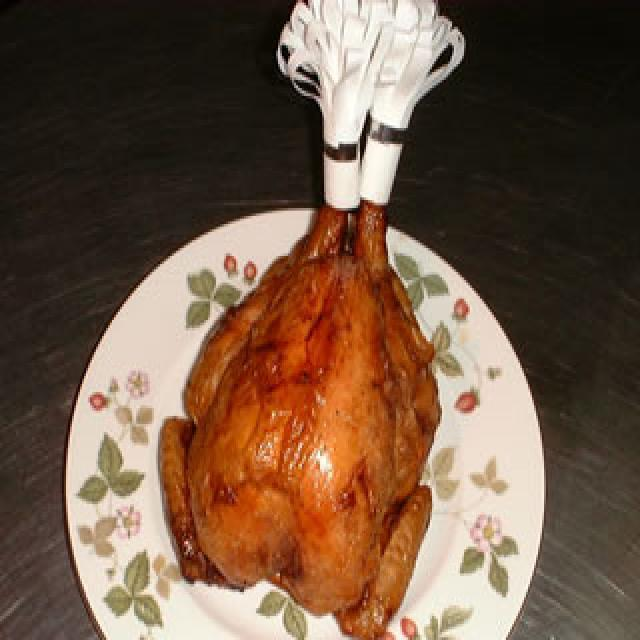Chicken roast: (172, 144, 434, 622)
